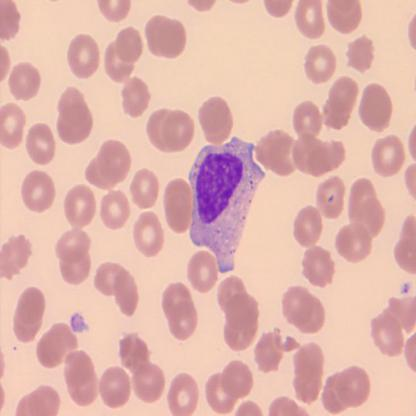Metamyelocyte: (187, 133, 267, 275)
